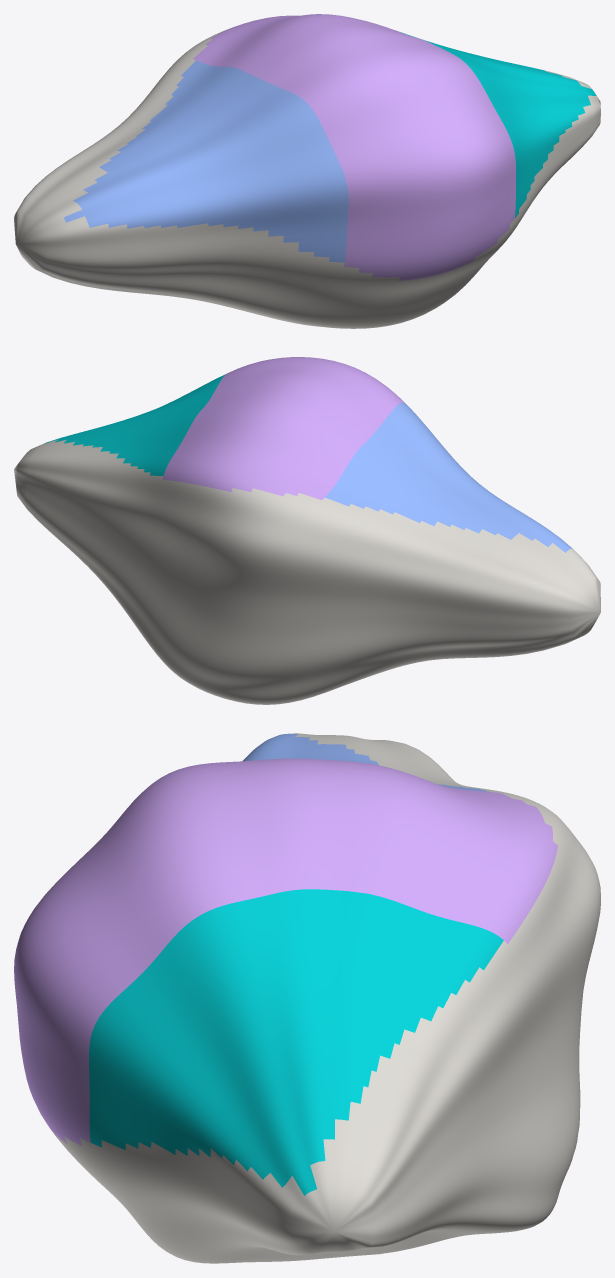
The model's file is mimic-core-c-tensioned-core.glb.
The picture shows the model from 3 angles, top to bottom: view 1: azimuth 30°, elevation 25°; view 2: azimuth 150°, elevation 25°; view 3: azimuth 270°, elevation 25°; orthographic projection. The views are drawn at different scales.
Visible parts, largest first — view 1: MimicCore_C_tensioned-core; view 2: MimicCore_C_tensioned-core; view 3: MimicCore_C_tensioned-core.
Part boxes in pixels (x1,y1,x2,y2): MimicCore_C_tensioned-core: (14,14,600,328); MimicCore_C_tensioned-core: (14,357,600,704); MimicCore_C_tensioned-core: (14,733,600,1263).
Bounding box in the file's own units: 6.8 × 3.2 × 3.6.
